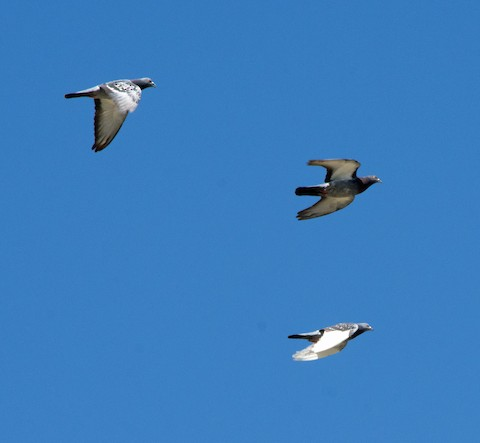pigeon: (60, 69, 162, 156), (293, 153, 388, 224), (285, 316, 381, 363)
